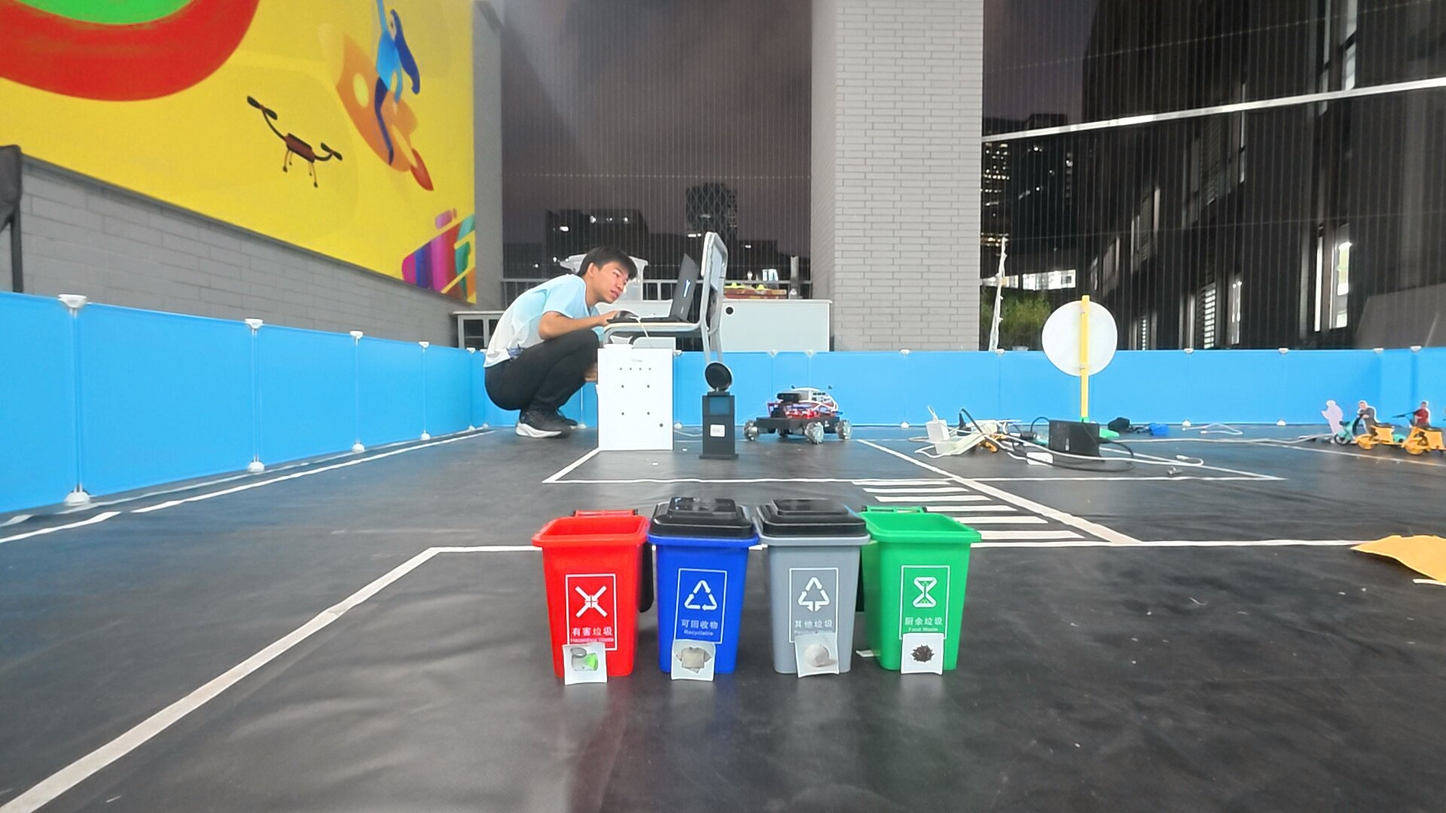food_trash: (904, 635, 943, 673)
hazardous_trash: (565, 645, 604, 682)
other_trash: (797, 636, 834, 672)
recyclable_trash: (674, 640, 716, 683)
